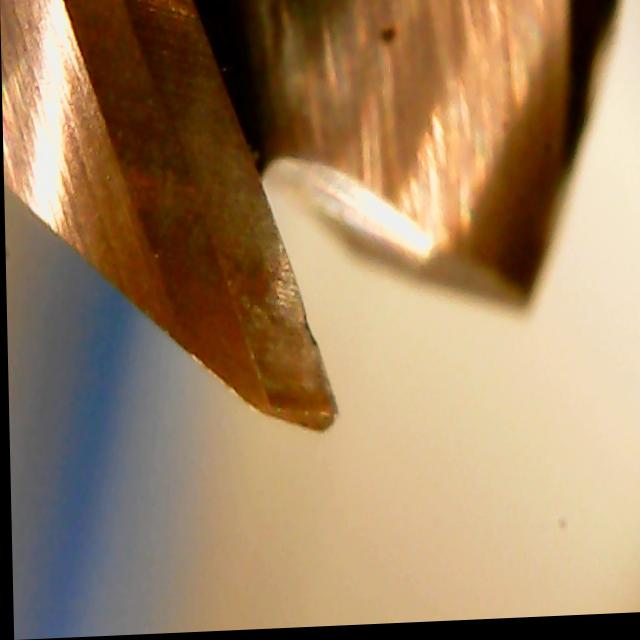Tool-wear-class-1: (213, 265, 358, 444)
